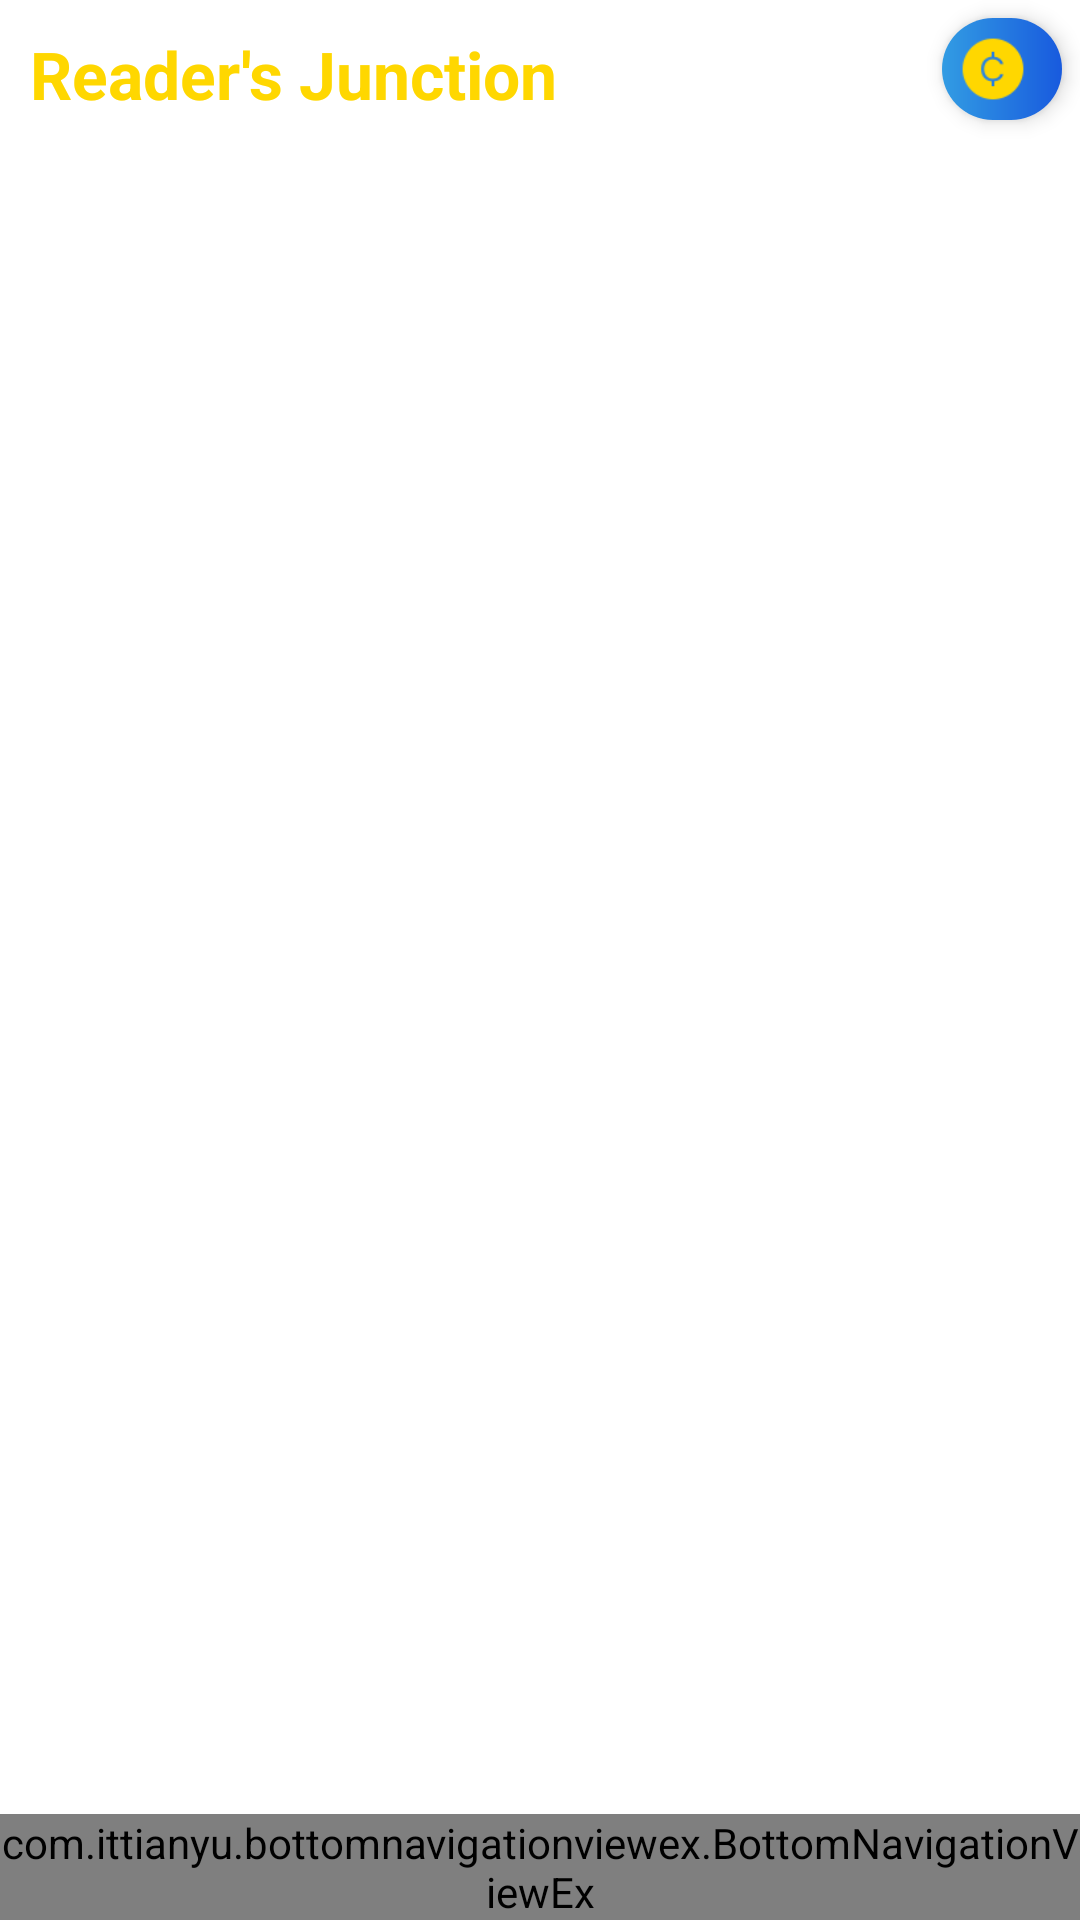

Icons on this 1080x1920 Android screen, each with the point to tap as (x=x, y=y):
cent: (x=993, y=69)
